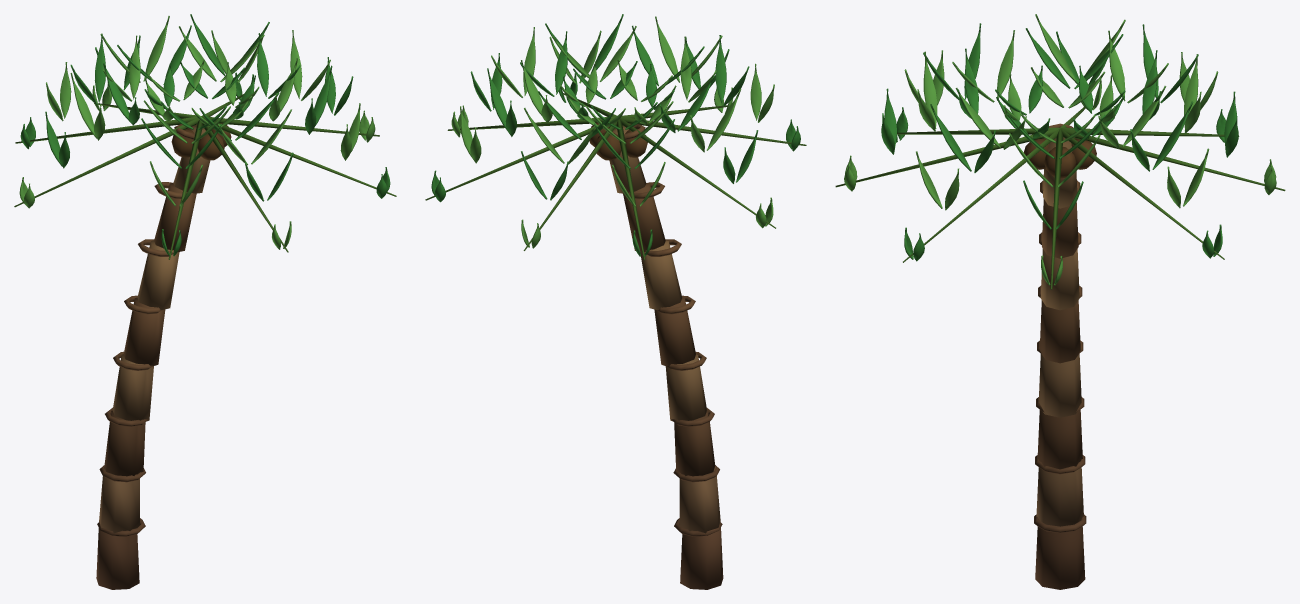
The model's file is palm.glb.
The picture shows the model from 3 angles, left to right: view 1: azimuth 30°, elevation 25°; view 2: azimuth 150°, elevation 25°; view 3: azimuth 270°, elevation 25°; orthographic projection. The views are drawn at different scales.
Parts seen in each view (by area): view 1: palm; view 2: palm; view 3: palm.
Boxes of the visible parts, box(x1,y1,x2,y2) form: palm: box(14, 14, 396, 589); palm: box(425, 14, 806, 589); palm: box(835, 14, 1285, 589).
Bounding box in the file's own units: 3.04 × 4.14 × 3.05.
